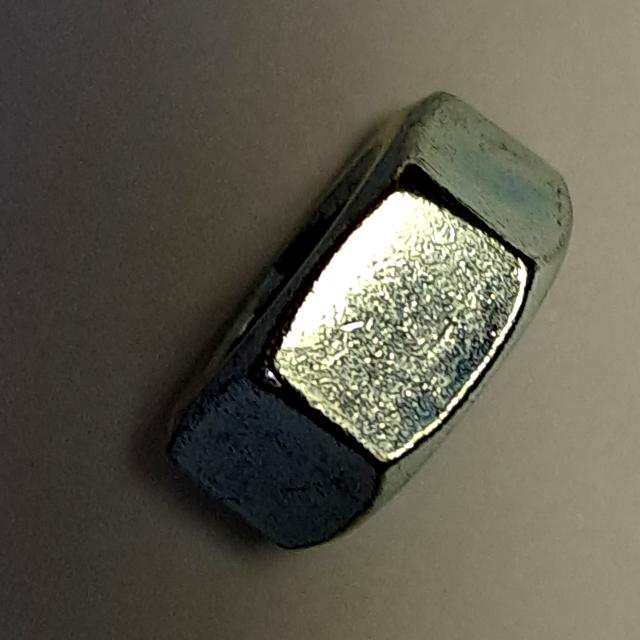Side_Excellent: (138, 83, 586, 559)
